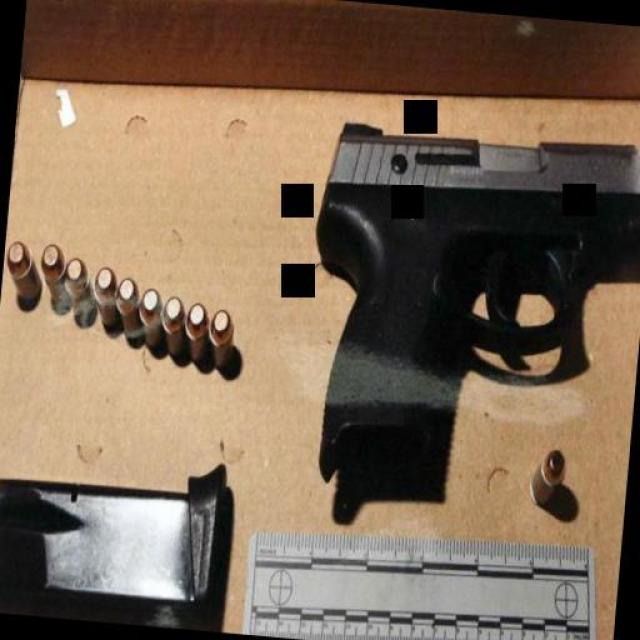gun: (285, 105, 640, 483)
